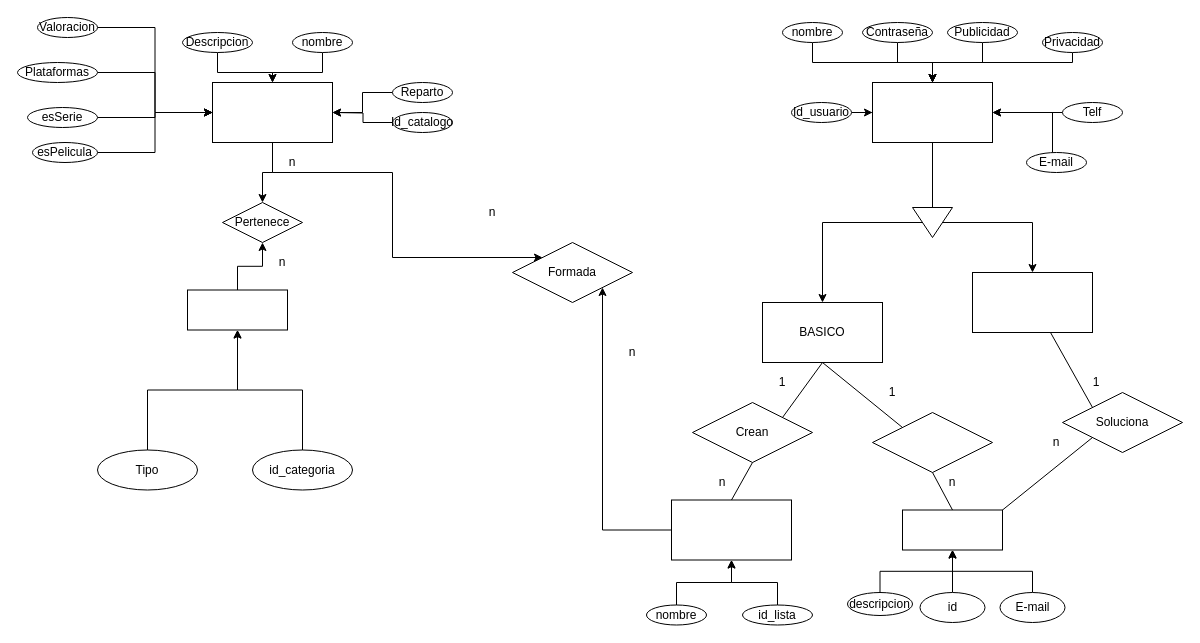
Some shapes in this 1200 by 643 pixel diagram are drawn without their labels. The centre of each missing label's shape, as x and y in pixels:
ADMIN: the point at 1032,302
CATALOGO: the point at 272,112
Categoria: the point at 237,309
Error: the point at 952,529
Lista: the point at 731,529
Reportan: the point at 932,442
USUARIO: the point at 932,112
